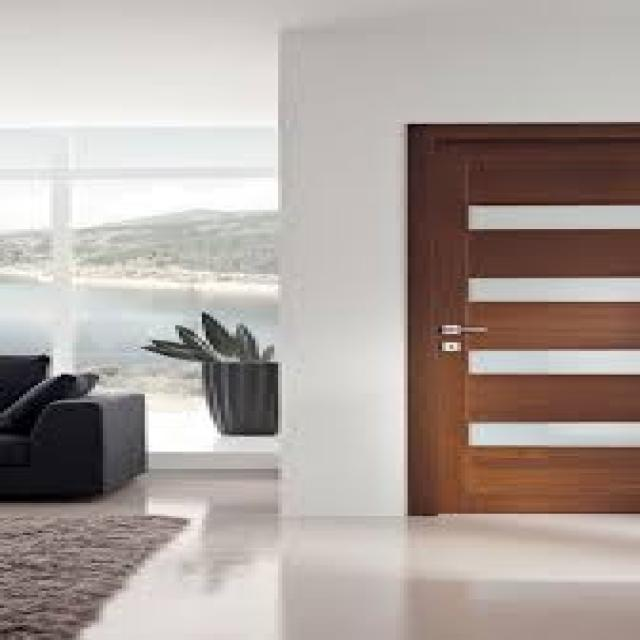door: (404, 122, 640, 516)
